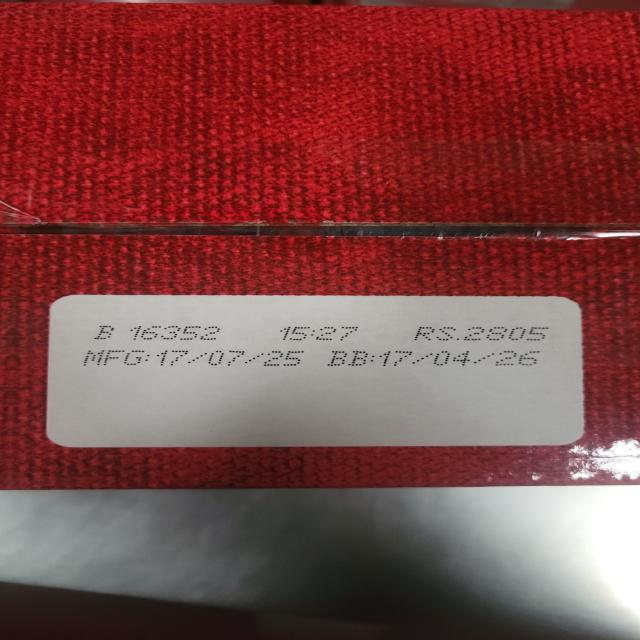BB: (330, 350, 546, 365)
Batch: (96, 323, 222, 342)
MFG: (82, 349, 307, 367)
RS: (413, 326, 547, 342)
TimeStamp: (279, 323, 359, 344)
